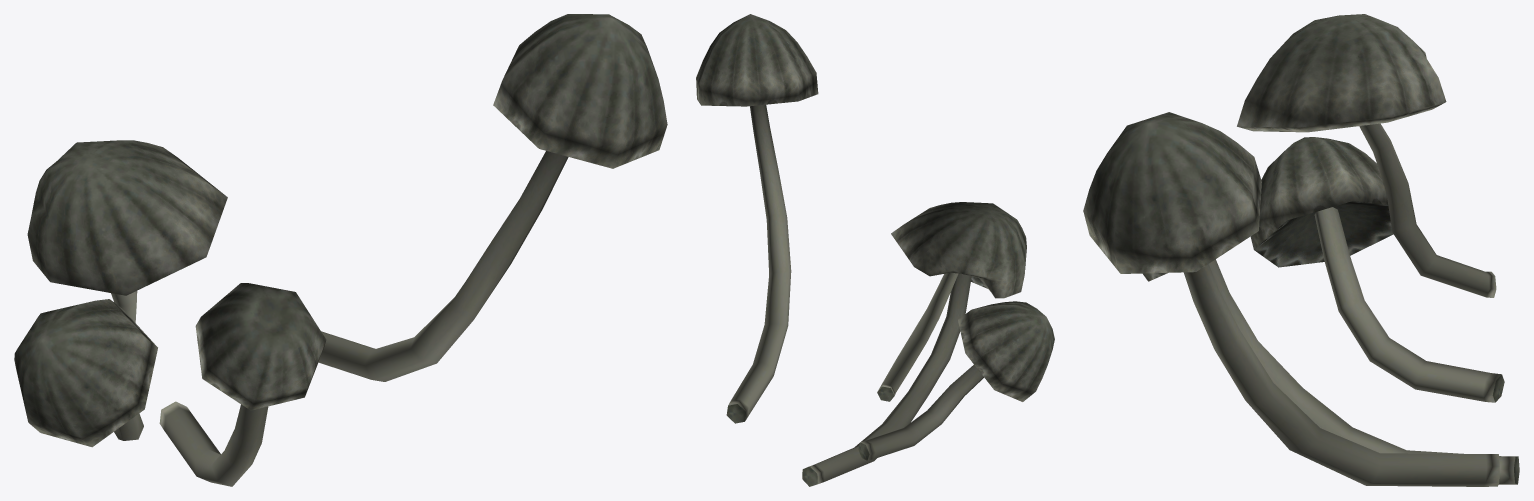
The model's file is cave_mushrooms_05.dae.
3 views of the same model, side by side, from view 1: azimuth 30°, elevation 25°; view 2: azimuth 150°, elevation 25°; view 3: azimuth 270°, elevation 25° (orthographic). The views are drawn at different scales.
Parts seen in each view (by area): view 1: bunch_5; view 2: bunch_5; view 3: bunch_5.
Part boxes in pixels (x1,y1,x2,y2): bunch_5: (14, 14, 667, 486); bunch_5: (696, 14, 1054, 486); bunch_5: (1083, 14, 1519, 486).
Size of the model in its own units: 0.4494 by 0.3656 by 0.2902.
